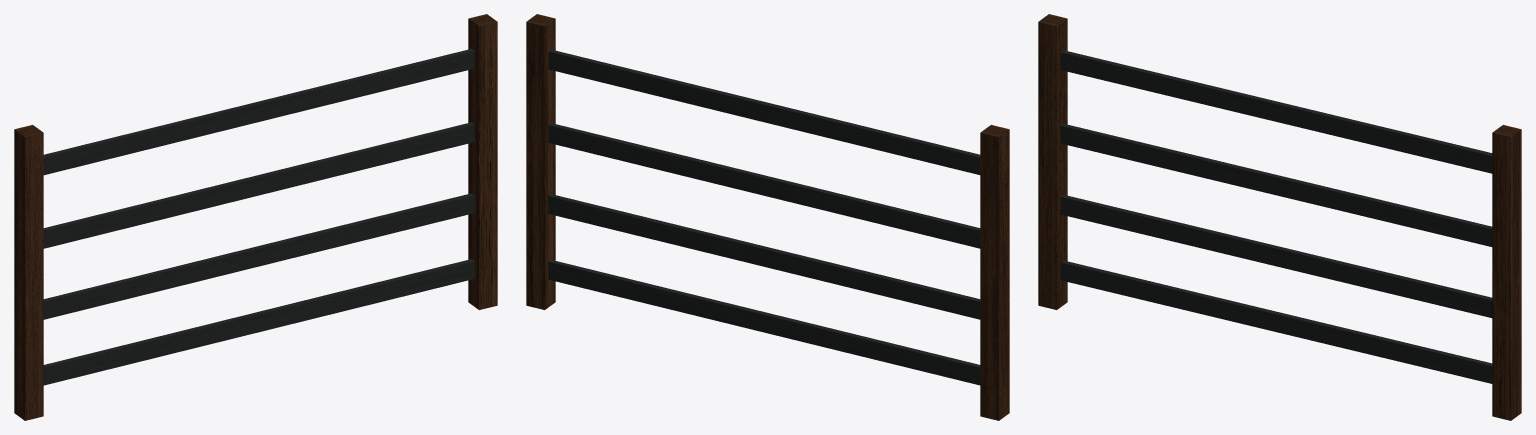
File: Baranda2.fbx
3 views of the same model, side by side, from view 1: azimuth 30°, elevation 25°; view 2: azimuth 150°, elevation 25°; view 3: azimuth 330°, elevation 25° (orthographic).
Visible parts, largest first — view 1: Cube.047, Cube.044, Cube.049, Cube.046, Cube.048, Cube.054; view 2: Cube.049, Cube.044, Cube.046, Cube.047, Cube.048, Cube.054; view 3: Cube.049, Cube.044, Cube.046, Cube.047, Cube.054, Cube.048.
Boxes of the visible parts, left/top/right/bottom form: Cube.047: left=43, top=122, right=474, bottom=248; Cube.044: left=43, top=193, right=474, bottom=319; Cube.049: left=43, top=48, right=474, bottom=175; Cube.046: left=43, top=259, right=474, bottom=385; Cube.048: left=14, top=125, right=43, bottom=420; Cube.054: left=468, top=14, right=497, bottom=309; Cube.049: left=548, top=49, right=980, bottom=174; Cube.044: left=548, top=194, right=980, bottom=319; Cube.046: left=548, top=260, right=980, bottom=385; Cube.047: left=548, top=123, right=980, bottom=248; Cube.048: left=980, top=125, right=1009, bottom=420; Cube.054: left=526, top=14, right=555, bottom=309; Cube.049: left=1060, top=50, right=1492, bottom=173; Cube.044: left=1060, top=194, right=1492, bottom=317; Cube.046: left=1060, top=260, right=1492, bottom=383; Cube.047: left=1060, top=123, right=1492, bottom=246; Cube.054: left=1492, top=125, right=1521, bottom=420; Cube.048: left=1038, top=14, right=1067, bottom=309.
Size of the model in its own units: 206 by 118 by 8.06.
Materials: 2 (2 with a texture image).
